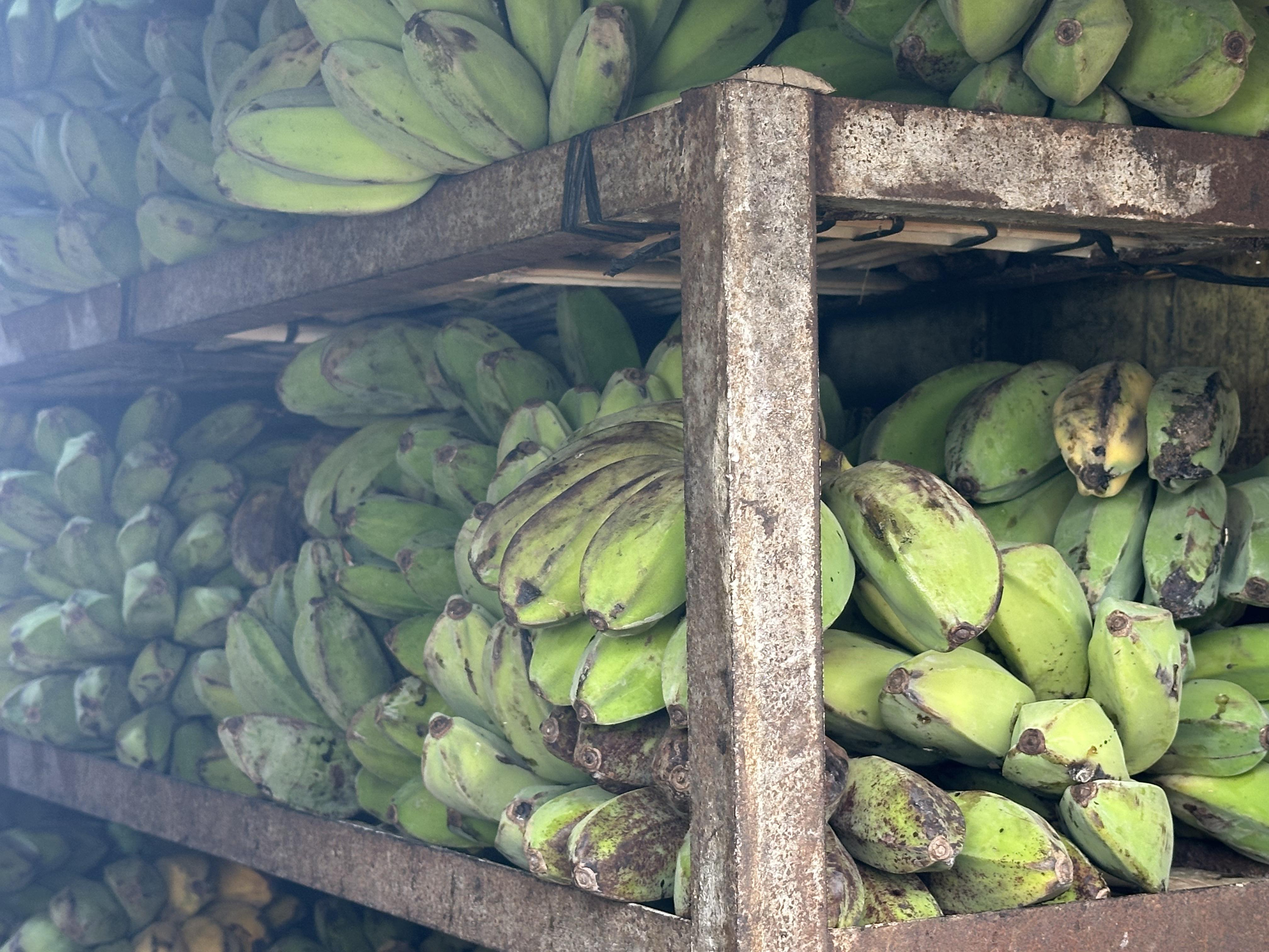underripe: (824, 543, 1269, 892), (214, 0, 786, 214), (860, 362, 1269, 622), (422, 596, 691, 915), (337, 318, 567, 679), (469, 400, 687, 728), (456, 319, 683, 620), (770, 0, 1269, 136), (0, 387, 297, 598), (824, 737, 1110, 929), (0, 563, 244, 779), (219, 539, 396, 818), (0, 109, 187, 293), (0, 855, 307, 952), (77, 0, 305, 114), (347, 677, 495, 849), (276, 319, 464, 427)
